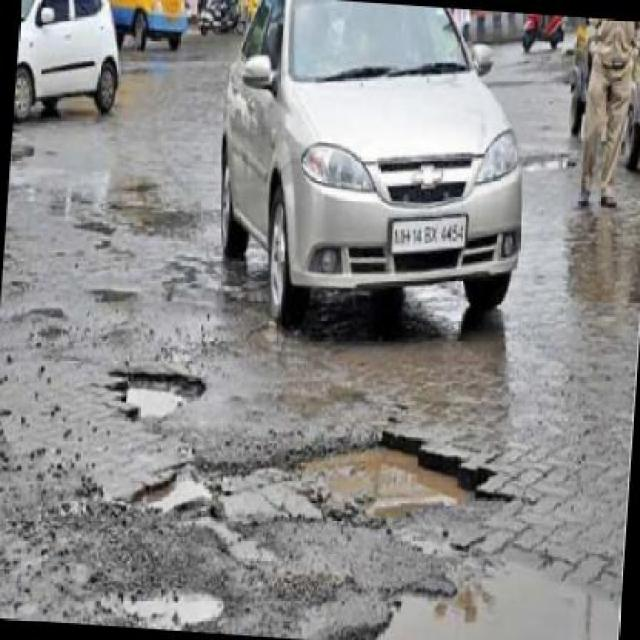pothole1: (126, 406, 514, 556), (304, 543, 624, 639), (101, 358, 208, 429), (110, 583, 225, 629)
